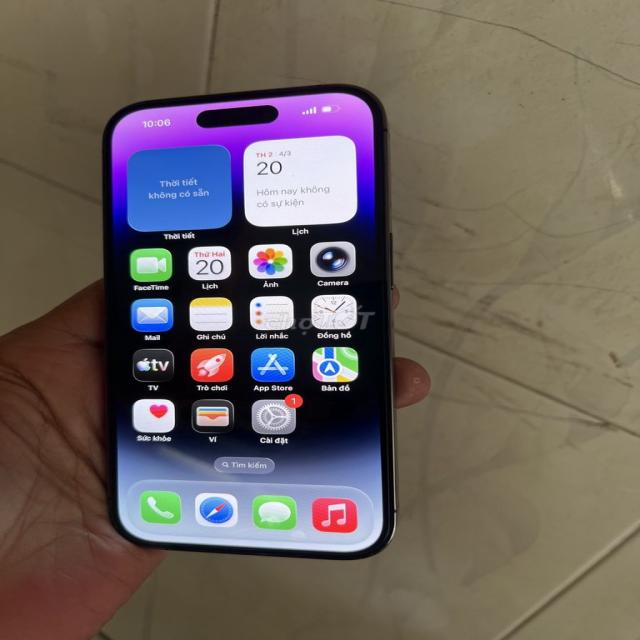gen_14: (103, 82, 403, 563)
